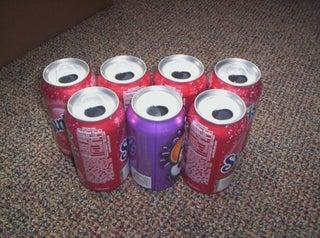metal: (41, 58, 125, 190), (188, 88, 247, 195), (128, 81, 185, 189), (214, 54, 265, 114), (89, 53, 148, 101), (155, 51, 207, 100)
